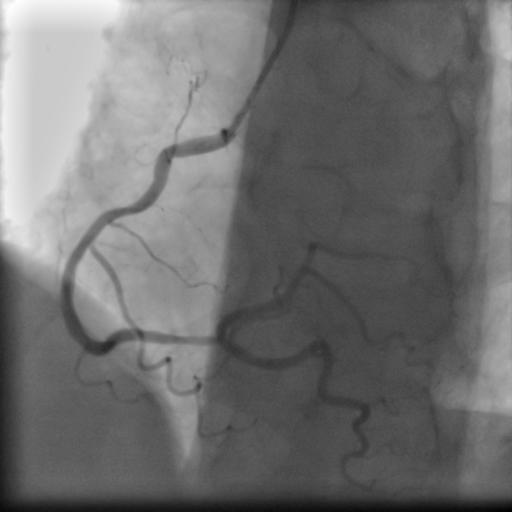Stenosis: (164, 326, 219, 350)
